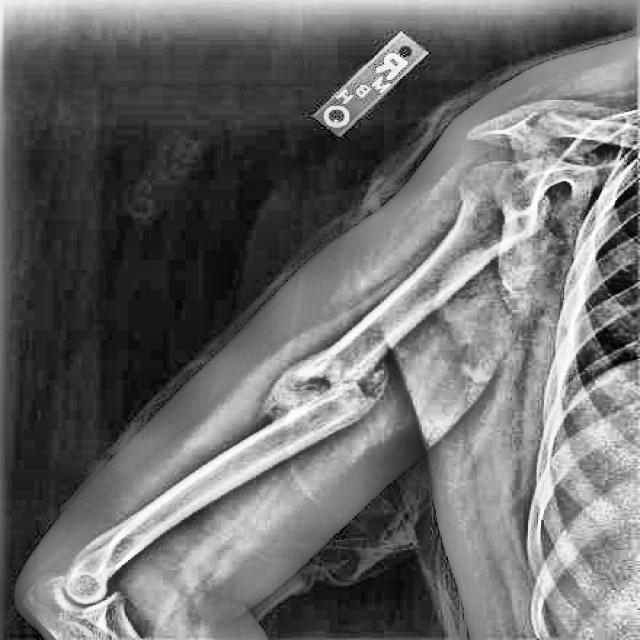humerus: (203, 309, 428, 509)
